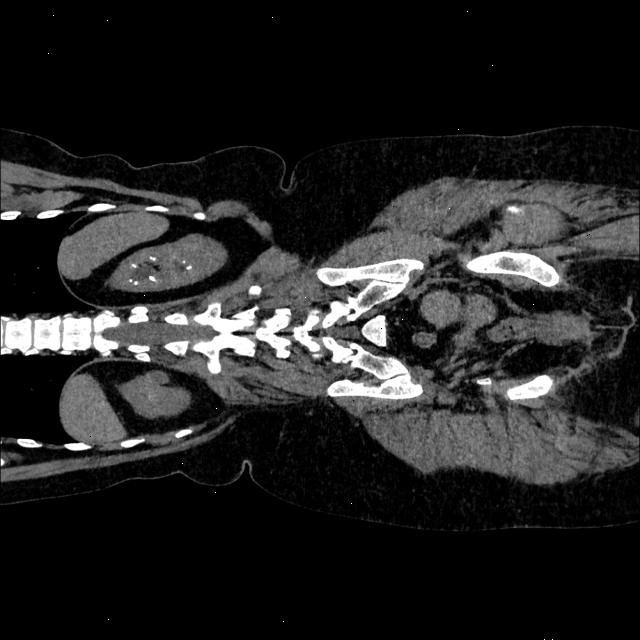kidneystone: (131, 262, 137, 268), (185, 264, 192, 269), (150, 255, 155, 260), (148, 276, 154, 280), (133, 280, 138, 284), (128, 278, 133, 281)
